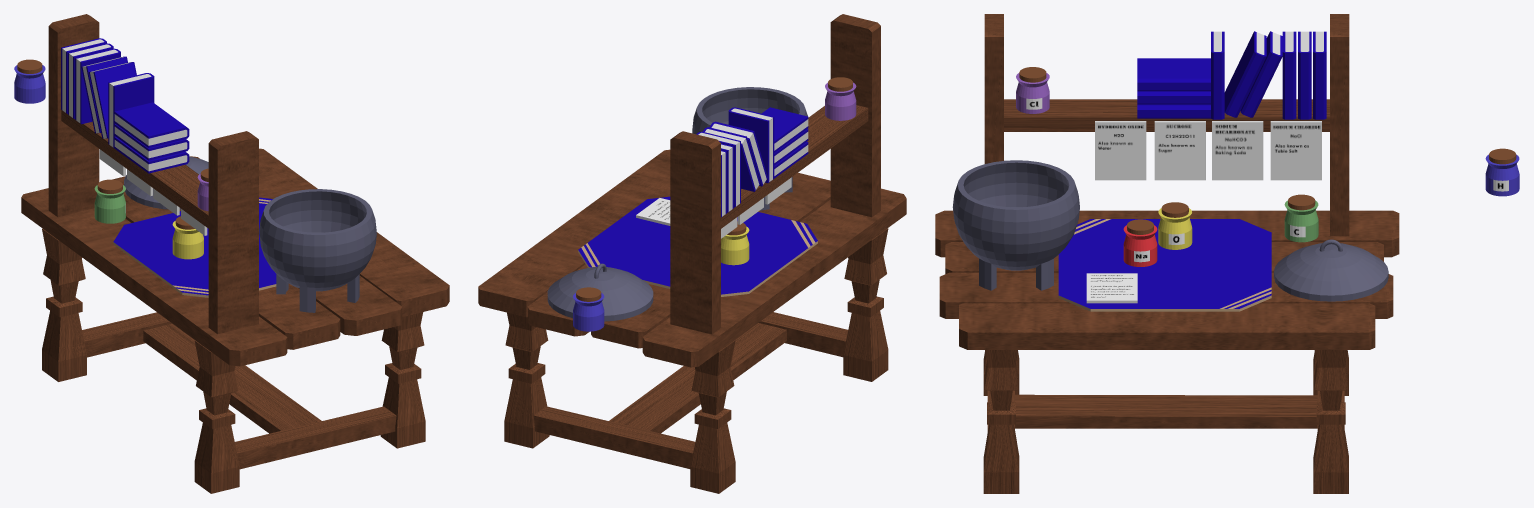
Rendered from PotionTable.fbx.
3 renders of one model, left to right at view 1: azimuth 30°, elevation 25°; view 2: azimuth 150°, elevation 25°; view 3: azimuth 270°, elevation 25°, orthographic. The views are drawn at different scales.
Parts seen in each view (by area): view 1: Table, Pot, Hydrogen, Carbon, Oxygen, Pot Lid; view 2: Table, Pot Lid, Pot, Hydrogen, Chlorine, Oxygen; view 3: Table, Pot, Pot Lid, Carbon, Hydrogen, Natrium, Oxygen, Chlorine.
Boxes of the visible parts, x1,y1,x2,y2 form: Table: (21,14,449,493); Pot: (259,189,376,312); Hydrogen: (14,59,45,103); Carbon: (94,179,125,223); Oxygen: (172,216,203,259); Pot Lid: (124,156,208,209); Table: (478,14,906,493); Pot Lid: (547,263,653,321); Pot: (692,87,807,210); Hydrogen: (573,287,604,331); Chlorine: (825,77,856,120); Oxygen: (721,221,749,265); Table: (935,14,1399,493); Pot: (952,160,1079,290); Pot Lid: (1274,239,1388,301); Carbon: (1284,194,1318,242); Hydrogen: (1485,148,1519,196); Natrium: (1123,219,1157,266); Oxygen: (1158,202,1192,249); Chlorine: (1016,67,1049,113).
Size of the model in its own units: 834 by 1190 by 1691.
17 materials, 7 textured.
